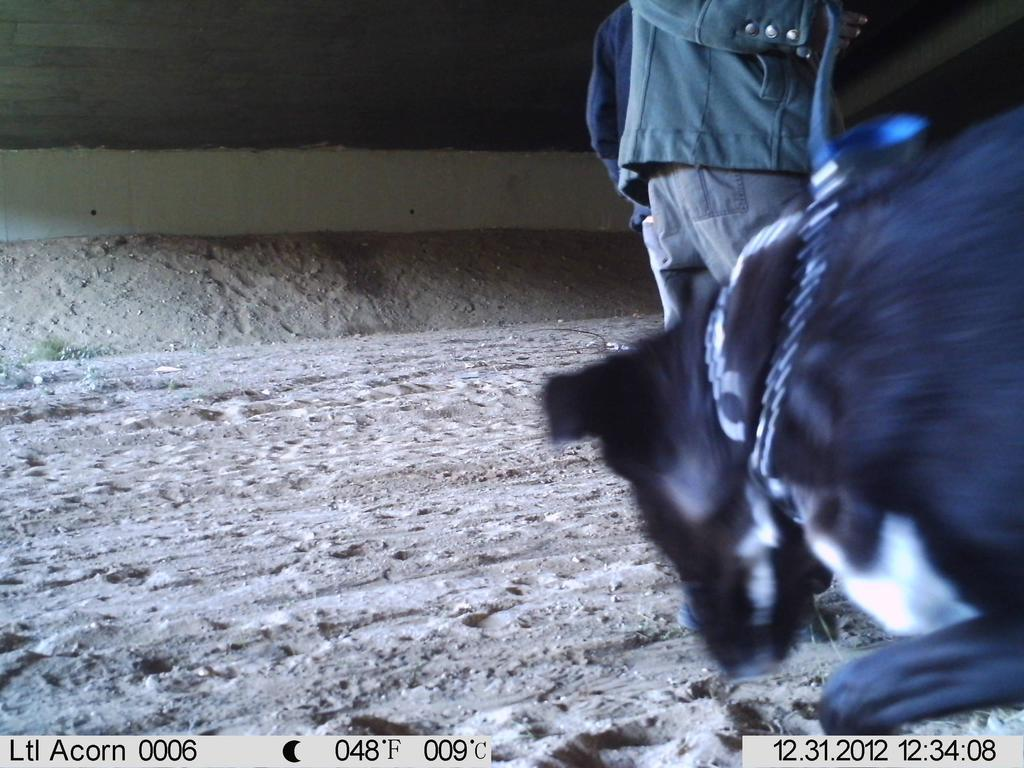dog: (505, 108, 1024, 754)
